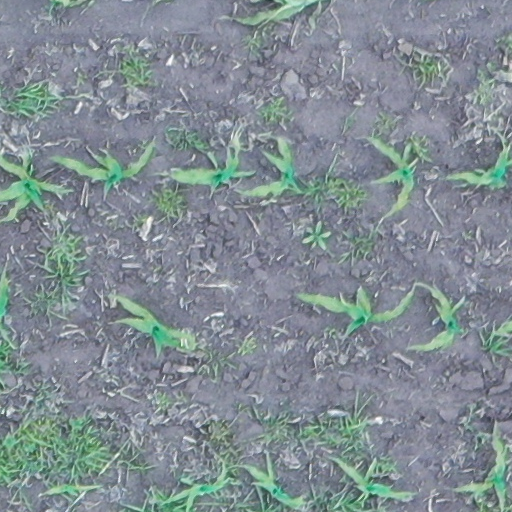planta: (296, 285, 415, 337), (107, 291, 199, 357), (50, 140, 157, 195), (239, 134, 320, 200), (409, 279, 467, 355), (330, 454, 416, 503), (366, 133, 418, 214), (167, 150, 255, 192), (43, 481, 103, 498)
